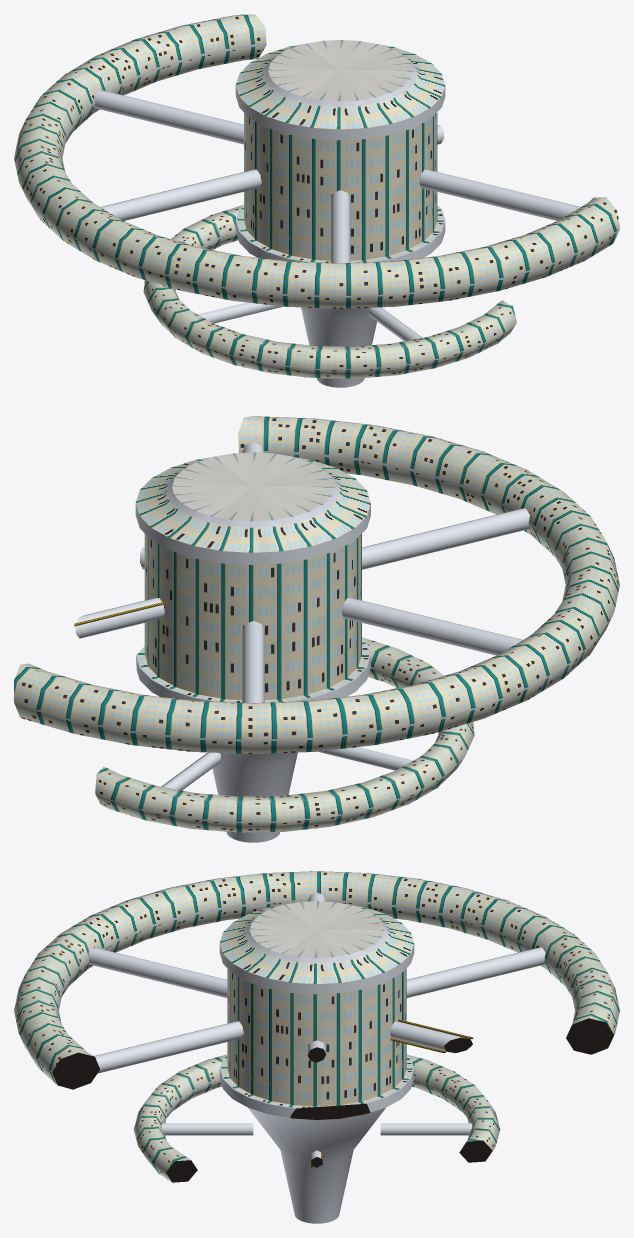
The model's file is research_station_build3_debris2.obj.
3 renders of one model, top to bottom at view 1: azimuth 30°, elevation 25°; view 2: azimuth 150°, elevation 25°; view 3: azimuth 270°, elevation 25°, orthographic. The views are drawn at different scales.
Parts seen in each view (by area): view 1: hub, lab_ring, lab_ring2, spoke, spoke2; view 2: hub, lab_ring, lab_ring2, spoke, spoke2; view 3: hub, lab_ring, spoke, lab_ring2, spoke2.
Boxes of the visible parts, x1=… form: hub: x1=235, y1=40, x2=445, y2=387; lab_ring: x1=14, y1=14, x2=619, y2=308; lab_ring2: x1=143, y1=205, x2=516, y2=378; spoke: x1=94, y1=90, x2=580, y2=263; spoke2: x1=198, y1=302, x2=422, y2=341; hub: x1=135, y1=452, x2=370, y2=842; lab_ring: x1=14, y1=416, x2=619, y2=753; lab_ring2: x1=95, y1=638, x2=474, y2=832; spoke: x1=75, y1=442, x2=529, y2=702; spoke2: x1=161, y1=747, x2=413, y2=790; hub: x1=219, y1=901, x2=414, y2=1223; lab_ring: x1=14, y1=871, x2=619, y2=1089; spoke: x1=88, y1=892, x2=545, y2=1073; lab_ring2: x1=133, y1=1055, x2=500, y2=1182; spoke2: x1=161, y1=1123, x2=472, y2=1167.
Size of the model in its own units: 121 by 84 by 162.
4 materials, 2 textured.
